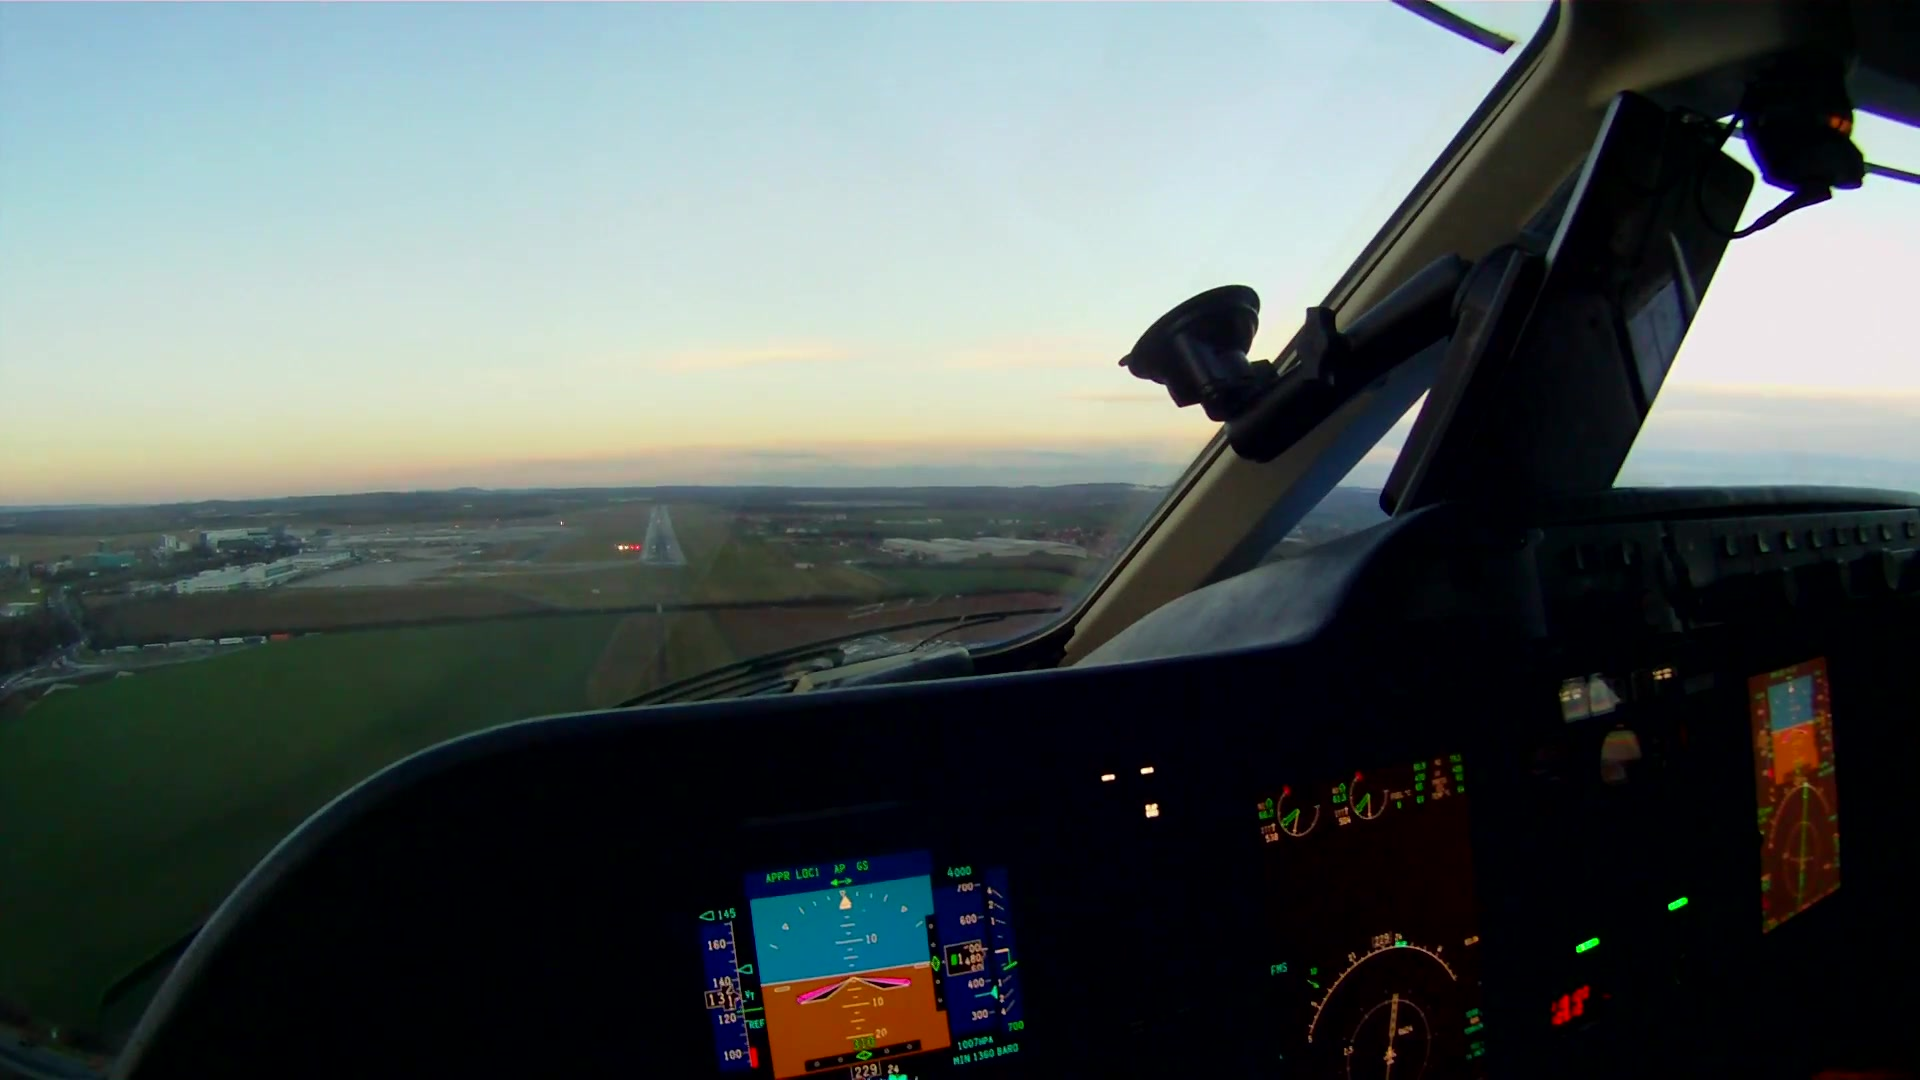runway: (640, 502, 684, 567)
